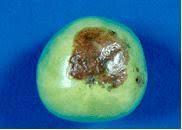tomato late blight: (37, 17, 149, 124)
